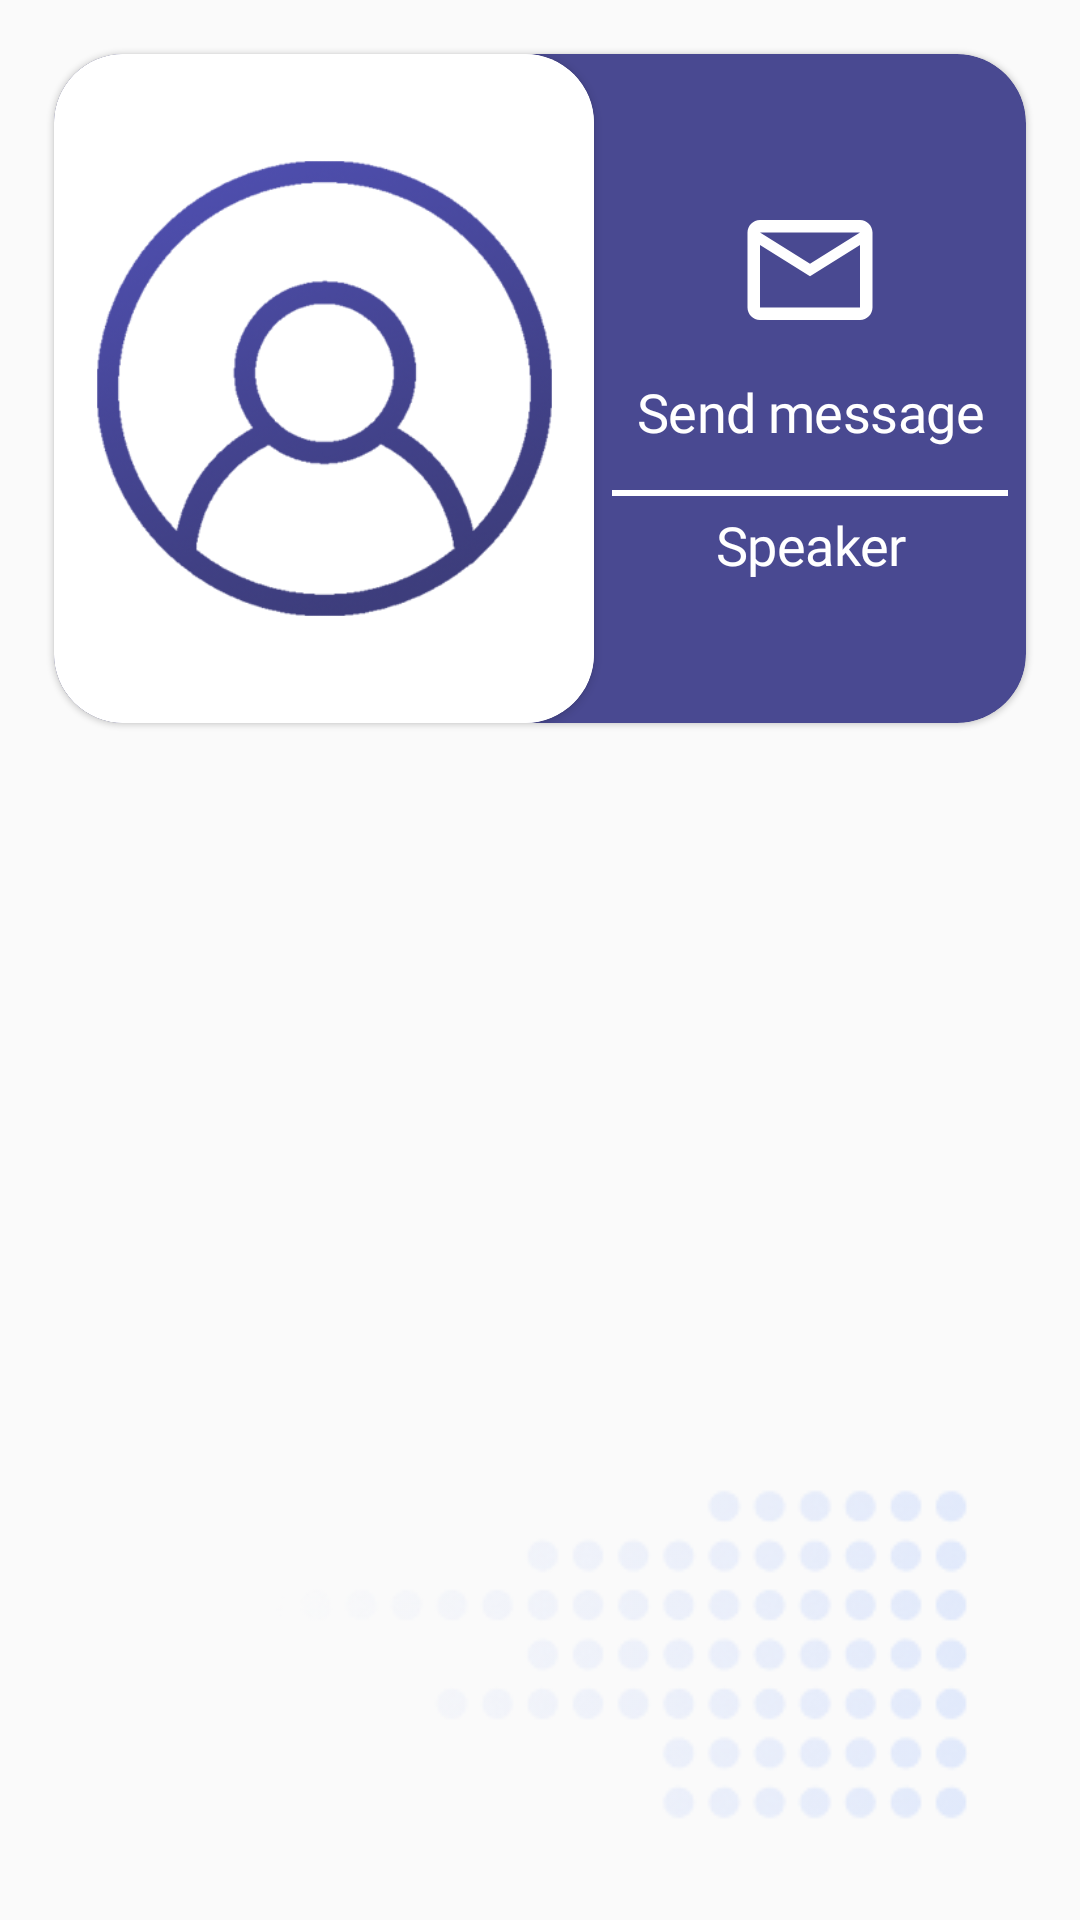

Icon click points for this 1080×1920 phone screenshot, format (x=x, y=y):
messages: (x=810, y=270)
